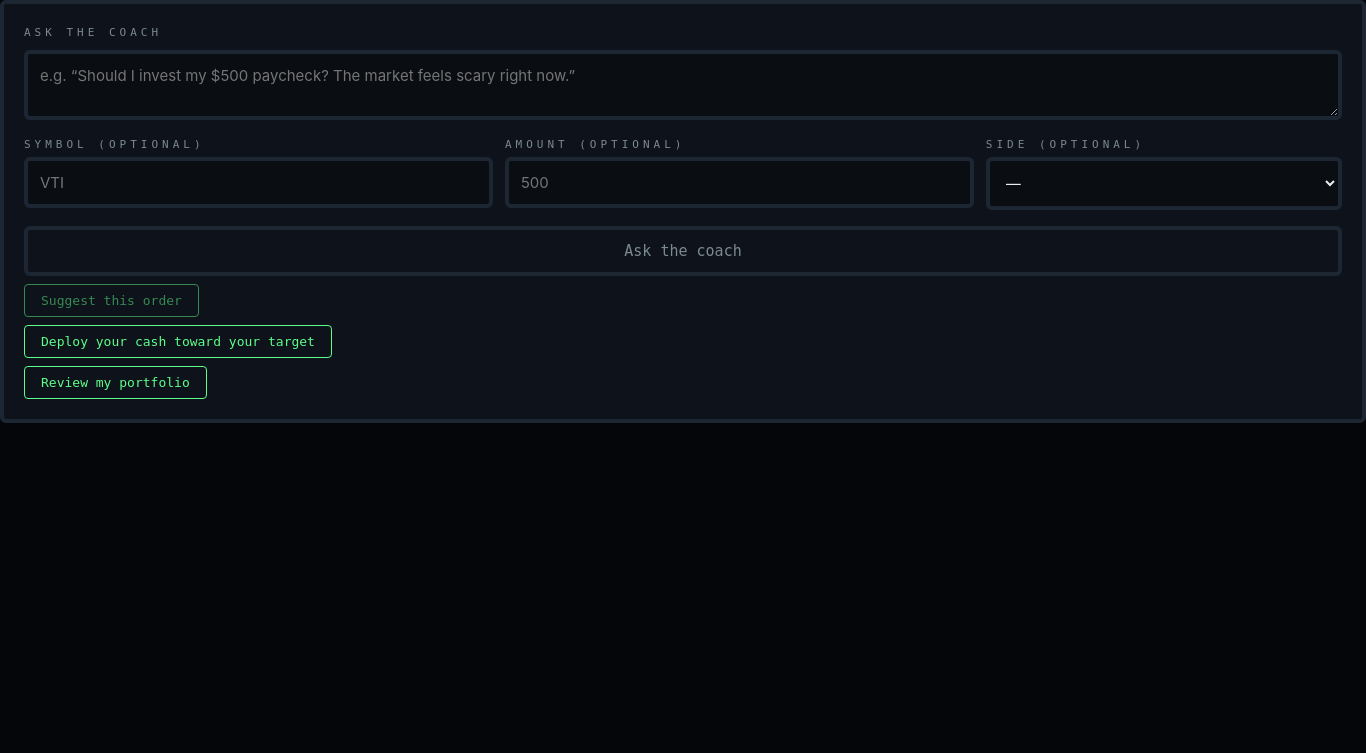
Scenario: CoachConsult — deploy-my-cash affordance (Story 10.2/10.3) › populates the order controls + renders the advisor narration on a deploy plan, no submit
Click the button with test id "coach-deploy-cash".
click(178, 342)  # box left=24, top=325, right=332, bottom=358
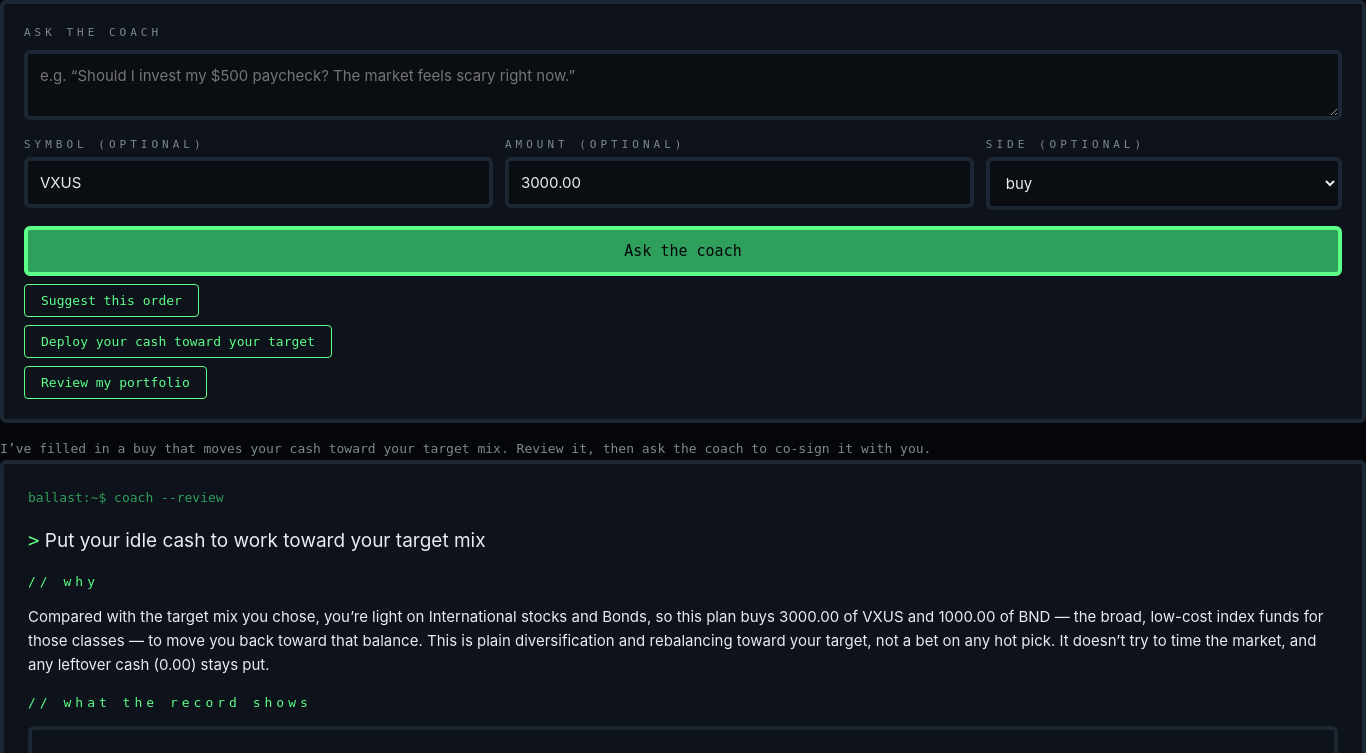
expect the field with test id "coach-symbol-input" holds "VXUS": met, box left=24, top=157, right=493, bottom=208
expect the field with test id "coach-amount-input" holds "3000.00": met, box left=505, top=157, right=974, bottom=208
expect the dropdown with test id "coach-side-select" shows "buy": met, box left=986, top=157, right=1342, bottom=210
